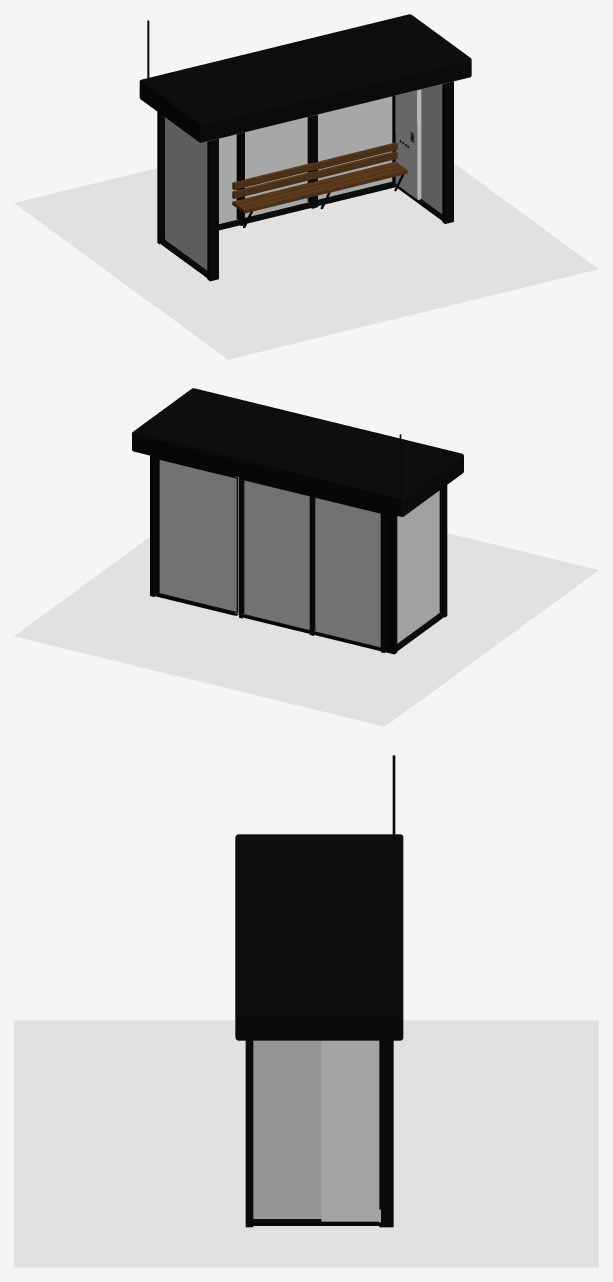
The model's file is bus_stop.glb.
3 views of the same model, one above another, from view 1: azimuth 30°, elevation 25°; view 2: azimuth 150°, elevation 25°; view 3: azimuth 270°, elevation 25° (orthographic). The views are drawn at different scales.
Parts seen in each view (by area): view 1: Plane, Cube, Plane.003, Plane.004, Plane.002, Cube.001, Cube.005, Plane.005, Plane.001, Cube.004, Cube.003, Cube.020 (+7 smaller); view 2: Plane, Cube, Plane.004, Plane.003, Plane.001, Cube.003, Cube.001, Cube.002, Plane.002, Cube.004; view 3: Plane, Cube, Cube.005, Plane.005, Plane.006, Cube.002, Cube.004.
Boxes of the visible parts, box(x1,y1,x2,y2) form: Plane: box(14, 163, 598, 359); Cube: box(139, 14, 471, 142); Plane.003: box(221, 96, 392, 198); Plane.004: box(219, 135, 391, 223); Plane.002: box(165, 170, 207, 270); Cube.001: box(157, 112, 218, 281); Cube.005: box(395, 89, 421, 199); Plane.005: box(421, 87, 442, 213); Plane.001: box(165, 117, 207, 198); Cube.004: box(392, 81, 453, 223); Cube.003: box(219, 115, 315, 230); Cube.020: box(232, 162, 315, 189); Plane: box(14, 533, 598, 726); Cube: box(132, 388, 463, 516); Plane.004: box(159, 460, 380, 595); Plane.003: box(159, 518, 380, 647); Plane.001: box(397, 490, 439, 636); Cube.003: box(239, 477, 385, 652); Cube.001: box(385, 485, 447, 654); Cube.002: box(150, 455, 241, 617); Plane.002: box(397, 544, 439, 643); Cube.004: box(154, 459, 159, 592); Plane: box(14, 1020, 598, 1267); Cube: box(235, 834, 403, 1040); Cube.005: box(321, 1040, 380, 1222); Plane.005: box(253, 1040, 321, 1186); Plane.006: box(253, 1041, 321, 1218); Cube.002: box(379, 1040, 393, 1227); Cube.004: box(245, 1040, 379, 1227).
Size of the model in its own units: 5.73 by 3.36 by 5.73.
